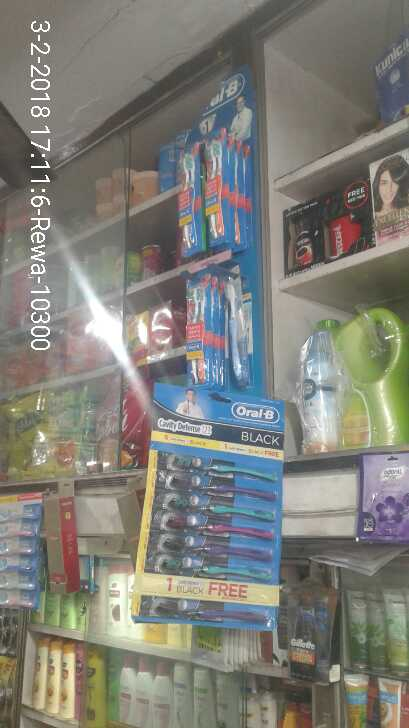oralb: (154, 447, 283, 591), (183, 276, 238, 387), (202, 130, 238, 246), (143, 601, 267, 629), (173, 142, 204, 247)
